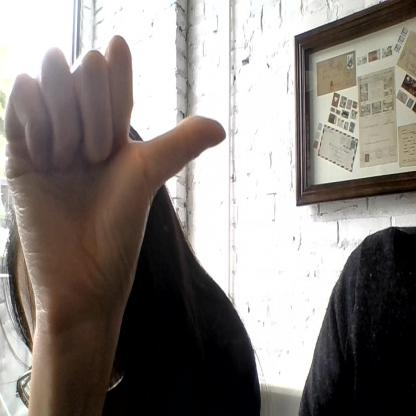left: (5, 36, 212, 292)
